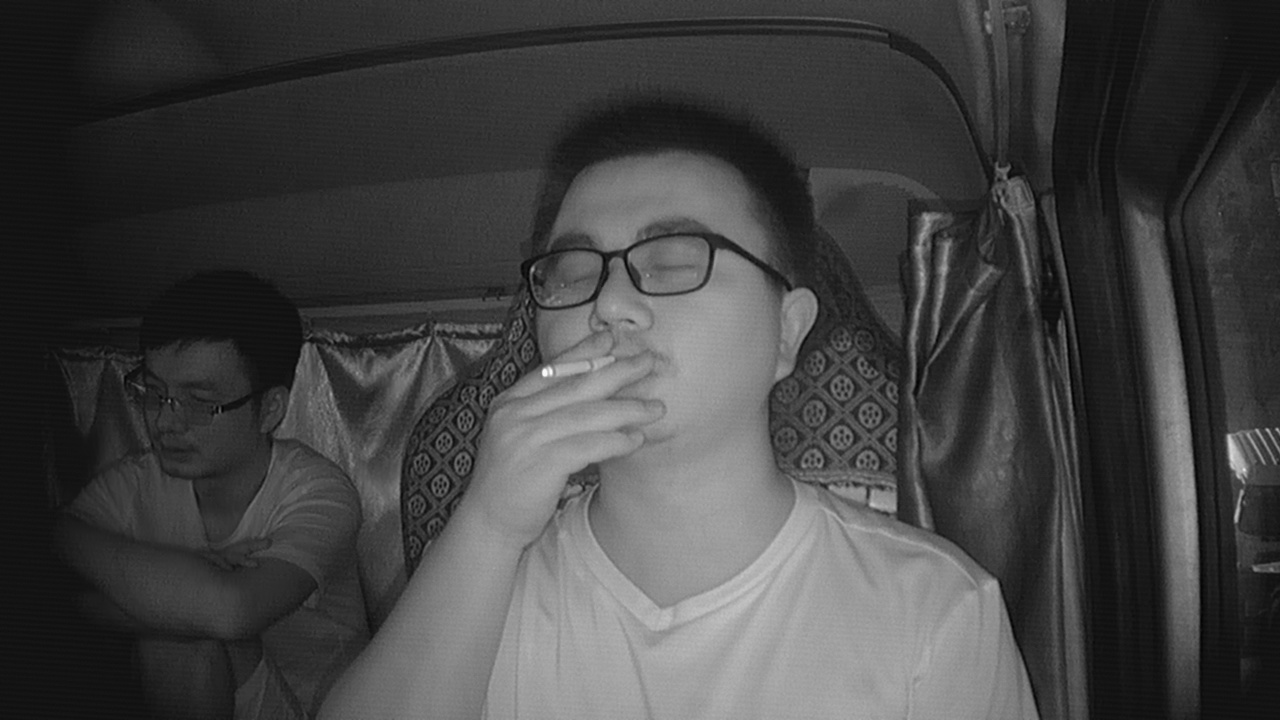hand: (522, 335, 647, 485)
